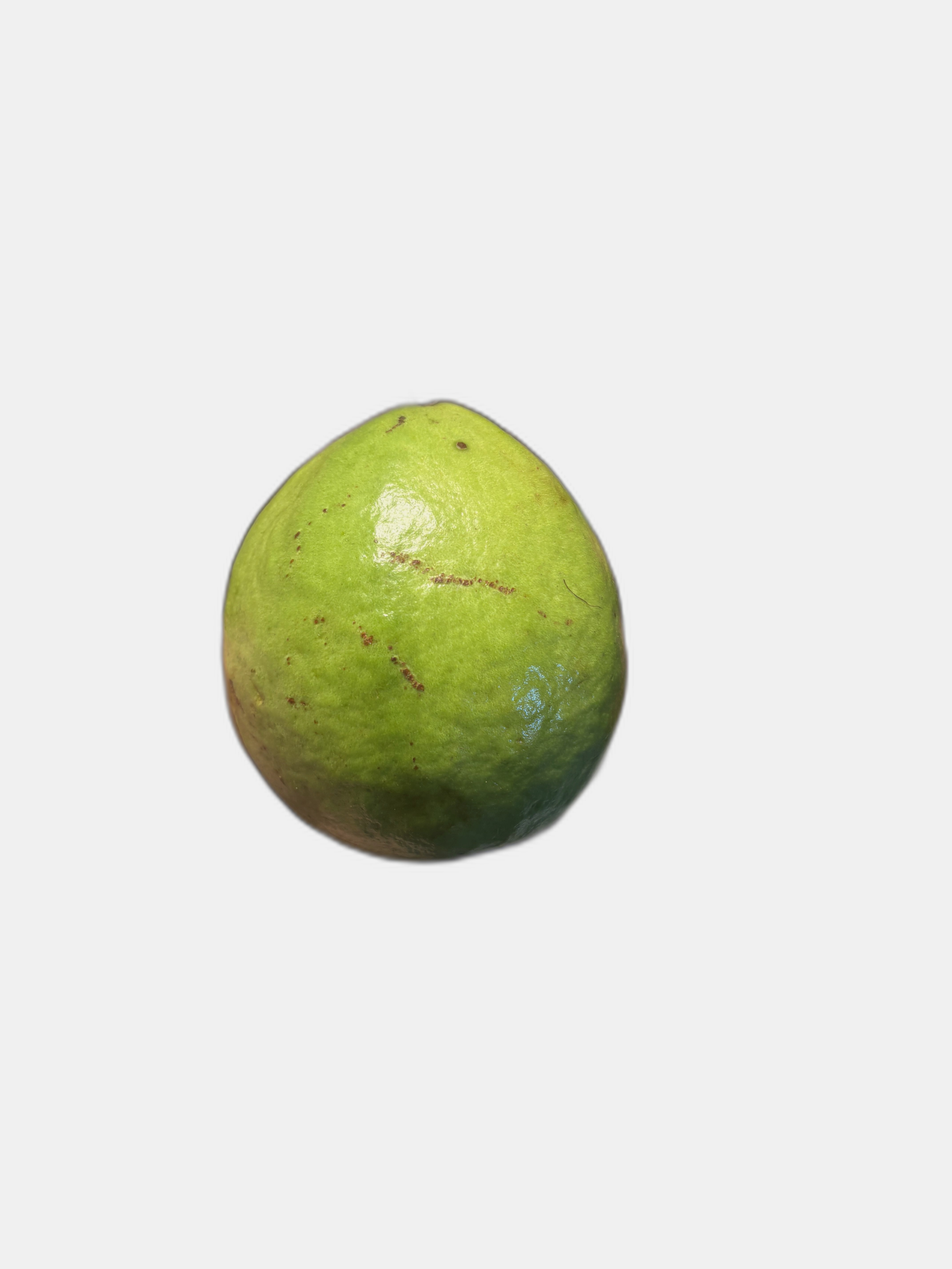guava: (84, 45, 763, 1037)
